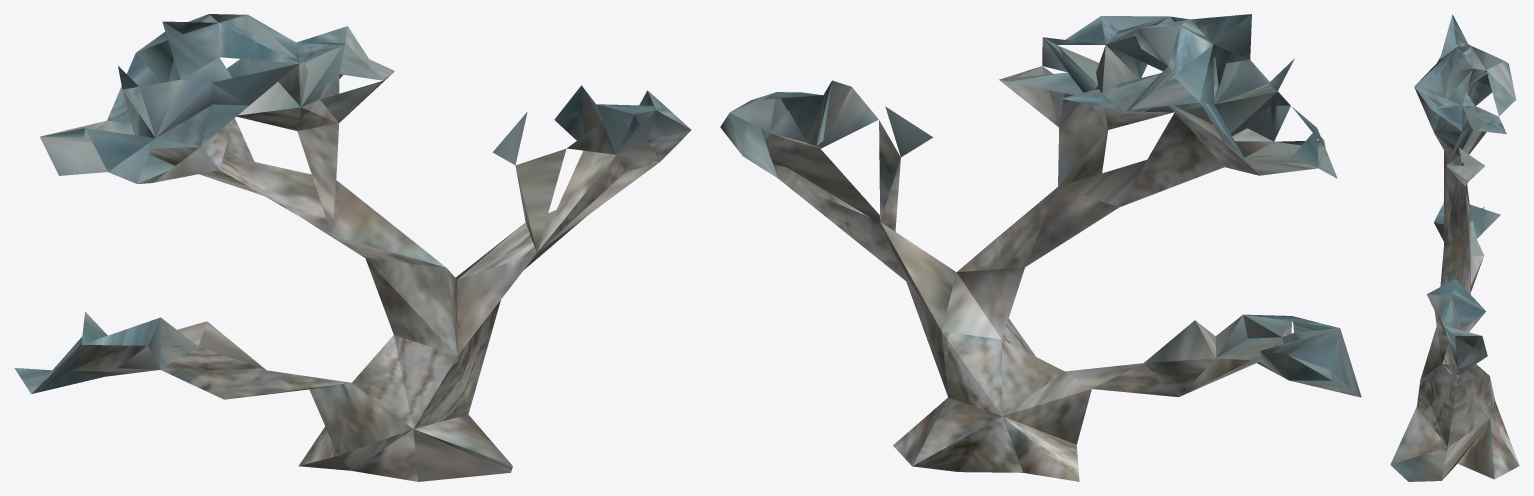
Rendered from fc_dwarfshrub_lod2.glb.
The picture shows the model from 3 angles, left to right: view 1: azimuth 30°, elevation 25°; view 2: azimuth 150°, elevation 25°; view 3: azimuth 270°, elevation 25°; orthographic projection. The views are drawn at different scales.
Parts seen in each view (by area): view 1: mesh; view 2: mesh; view 3: mesh.
Boxes of the visible parts, x1,y1,x2,y2 form: mesh: (14, 14, 691, 481); mesh: (720, 14, 1361, 481); mesh: (1390, 14, 1519, 481).
Bounding box in the file's own units: 1.64 × 1.2 × 0.3939.
1 material, 1 textured.
